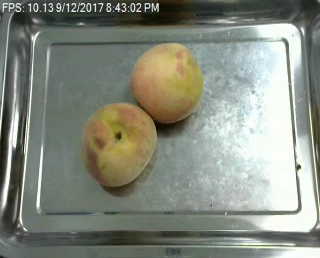Peach: (80, 102, 157, 188), (131, 40, 203, 124)
